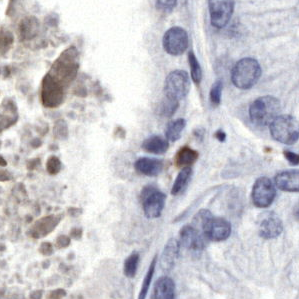Lymphocyte: (171, 145, 200, 167)
